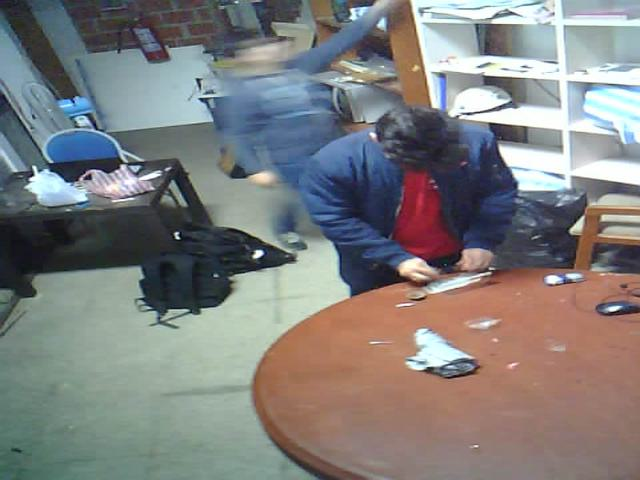person: (302, 95, 520, 301), (184, 6, 396, 199)
